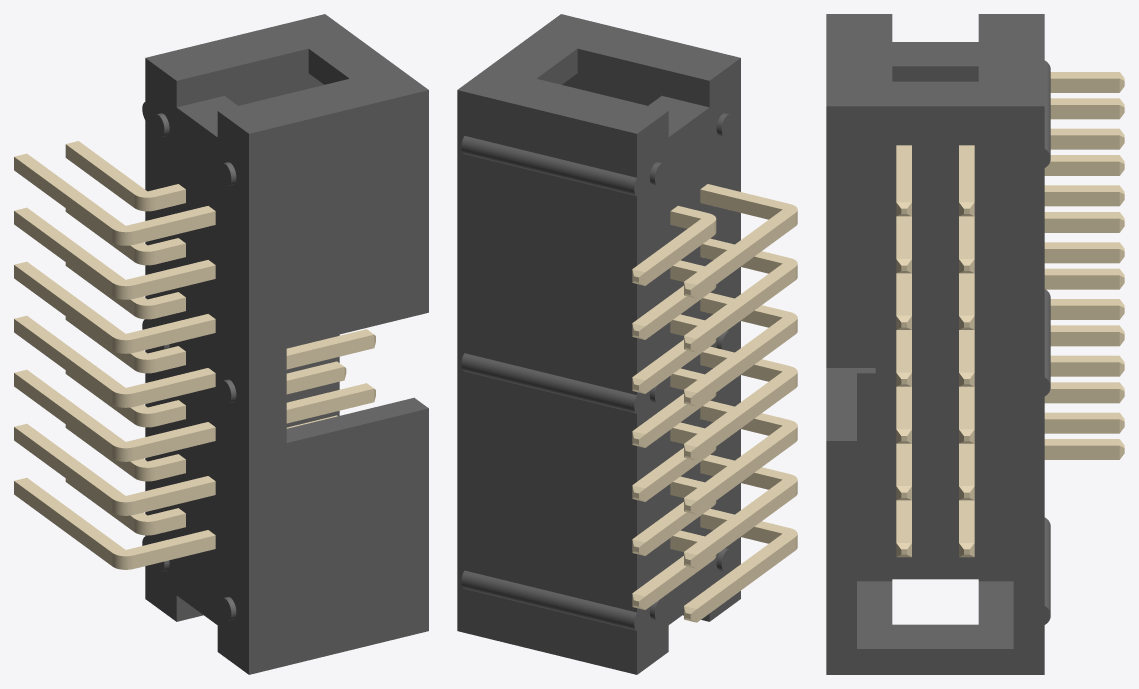
File: IDC-Header_2x07_P2.54mm_Horizontal.glb
The picture shows the model from 3 angles, left to right: view 1: azimuth 30°, elevation 25°; view 2: azimuth 150°, elevation 25°; view 3: azimuth 270°, elevation 25°; orthographic projection. The views are drawn at different scales.
Visible parts, largest first — view 1: Shape_IndexedFaceSet, Shape_IndexedFaceSet.007, Shape_IndexedFaceSet.001, Shape_IndexedFaceSet.011, Shape_IndexedFaceSet.076, Shape_IndexedFaceSet.093, Shape_IndexedFaceSet.014, Shape_IndexedFaceSet.094, Shape_IndexedFaceSet.077, Shape_IndexedFaceSet.042, Shape_IndexedFaceSet.059, Shape_IndexedFaceSet.110 (+21 smaller); view 2: Shape_IndexedFaceSet.008, Shape_IndexedFaceSet.007, Shape_IndexedFaceSet.001, Shape_IndexedFaceSet.009, Shape_IndexedFaceSet.023, Shape_IndexedFaceSet.025, Shape_IndexedFaceSet.024, Shape_IndexedFaceSet.127, Shape_IndexedFaceSet.110, Shape_IndexedFaceSet.093, Shape_IndexedFaceSet.144, Shape_IndexedFaceSet.076 (+33 smaller); view 3: Shape_IndexedFaceSet.017, Shape_IndexedFaceSet.002, Shape_IndexedFaceSet.001, Shape_IndexedFaceSet.013, Shape_IndexedFaceSet.004, Shape_IndexedFaceSet.005, Shape_IndexedFaceSet.026, Shape_IndexedFaceSet.127, Shape_IndexedFaceSet.246, Shape_IndexedFaceSet.042, Shape_IndexedFaceSet.212, Shape_IndexedFaceSet.059 (+26 smaller).
Part boxes in pixels (x1=…): Shape_IndexedFaceSet: x1=249, y1=90, x2=428, y2=674; Shape_IndexedFaceSet.007: x1=142, y1=58, x2=248, y2=674; Shape_IndexedFaceSet.001: x1=145, y1=14, x2=428, y2=133; Shape_IndexedFaceSet.011: x1=176, y1=48, x2=308, y2=107; Shape_IndexedFaceSet.076: x1=14, y1=369, x2=373, y2=448; Shape_IndexedFaceSet.093: x1=14, y1=315, x2=373, y2=394; Shape_IndexedFaceSet.014: x1=224, y1=73, x2=339, y2=427; Shape_IndexedFaceSet.094: x1=133, y1=334, x2=374, y2=406; Shape_IndexedFaceSet.077: x1=133, y1=389, x2=374, y2=460; Shape_IndexedFaceSet.042: x1=14, y1=477, x2=215, y2=556; Shape_IndexedFaceSet.059: x1=14, y1=423, x2=215, y2=502; Shape_IndexedFaceSet.110: x1=14, y1=261, x2=215, y2=340; Shape_IndexedFaceSet.008: x1=457, y1=90, x2=636, y2=674; Shape_IndexedFaceSet.007: x1=634, y1=58, x2=740, y2=674; Shape_IndexedFaceSet.001: x1=458, y1=14, x2=740, y2=133; Shape_IndexedFaceSet.009: x1=577, y1=49, x2=709, y2=107; Shape_IndexedFaceSet.023: x1=461, y1=570, x2=636, y2=630; Shape_IndexedFaceSet.025: x1=461, y1=136, x2=636, y2=195; Shape_IndexedFaceSet.024: x1=461, y1=353, x2=636, y2=413; Shape_IndexedFaceSet.127: x1=684, y1=184, x2=797, y2=284; Shape_IndexedFaceSet.110: x1=684, y1=292, x2=797, y2=392; Shape_IndexedFaceSet.093: x1=684, y1=346, x2=797, y2=446; Shape_IndexedFaceSet.144: x1=684, y1=238, x2=797, y2=338; Shape_IndexedFaceSet.076: x1=684, y1=400, x2=797, y2=500; Shape_IndexedFaceSet.017: x1=857, y1=66, x2=1013, y2=581; Shape_IndexedFaceSet.002: x1=826, y1=106, x2=1044, y2=674; Shape_IndexedFaceSet.001: x1=826, y1=14, x2=1044, y2=106; Shape_IndexedFaceSet.013: x1=857, y1=581, x2=1013, y2=648; Shape_IndexedFaceSet.004: x1=826, y1=272, x2=875, y2=367; Shape_IndexedFaceSet.005: x1=826, y1=368, x2=875, y2=440; Shape_IndexedFaceSet.026: x1=892, y1=42, x2=978, y2=66; Shape_IndexedFaceSet.127: x1=896, y1=72, x2=1119, y2=202; Shape_IndexedFaceSet.246: x1=959, y1=98, x2=1119, y2=202; Shape_IndexedFaceSet.042: x1=896, y1=412, x2=1119, y2=542; Shape_IndexedFaceSet.212: x1=959, y1=268, x2=1119, y2=372; Shape_IndexedFaceSet.059: x1=896, y1=355, x2=1119, y2=485.
Size of the model in its own units: 5.34 by 10.02 by 4.76.
